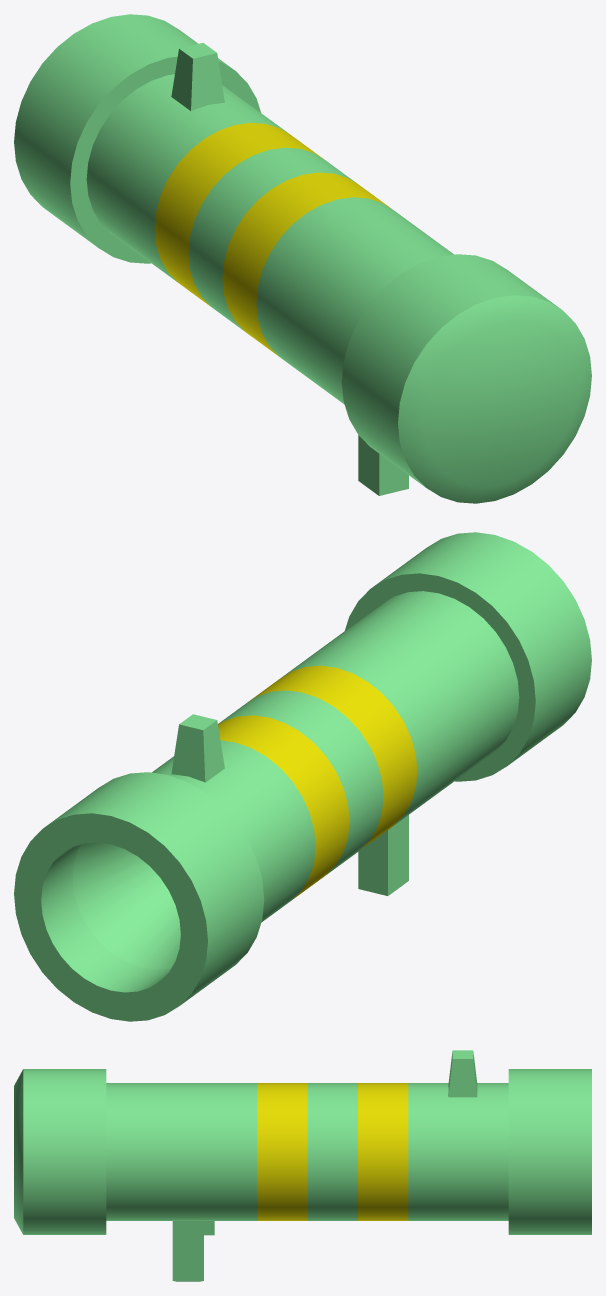
The model's file is bazooka.glb.
3 renders of one model, top to bottom at view 1: azimuth 30°, elevation 25°; view 2: azimuth 150°, elevation 25°; view 3: azimuth 270°, elevation 25°, orthographic. The views are drawn at different scales.
Parts seen in each view (by area): view 1: Cylinder; view 2: Cylinder; view 3: Cylinder.
Part boxes in pixels (x1,y1,x2,y2): Cylinder: [14, 14, 591, 503]; Cylinder: [14, 532, 591, 1021]; Cylinder: [14, 1050, 591, 1281].
Bounding box in the file's own units: 0.6039 × 0.8935 × 2.1.
